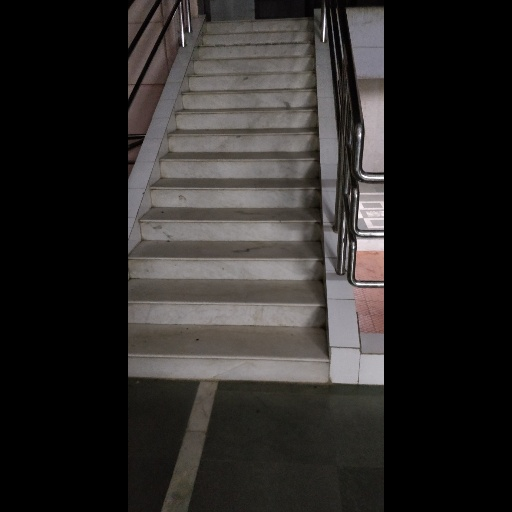Stairs: (129, 21, 328, 380)
